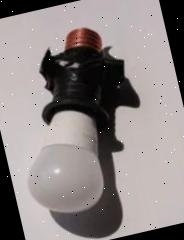lightbulb: (0, 17, 167, 240), (18, 132, 109, 221)
